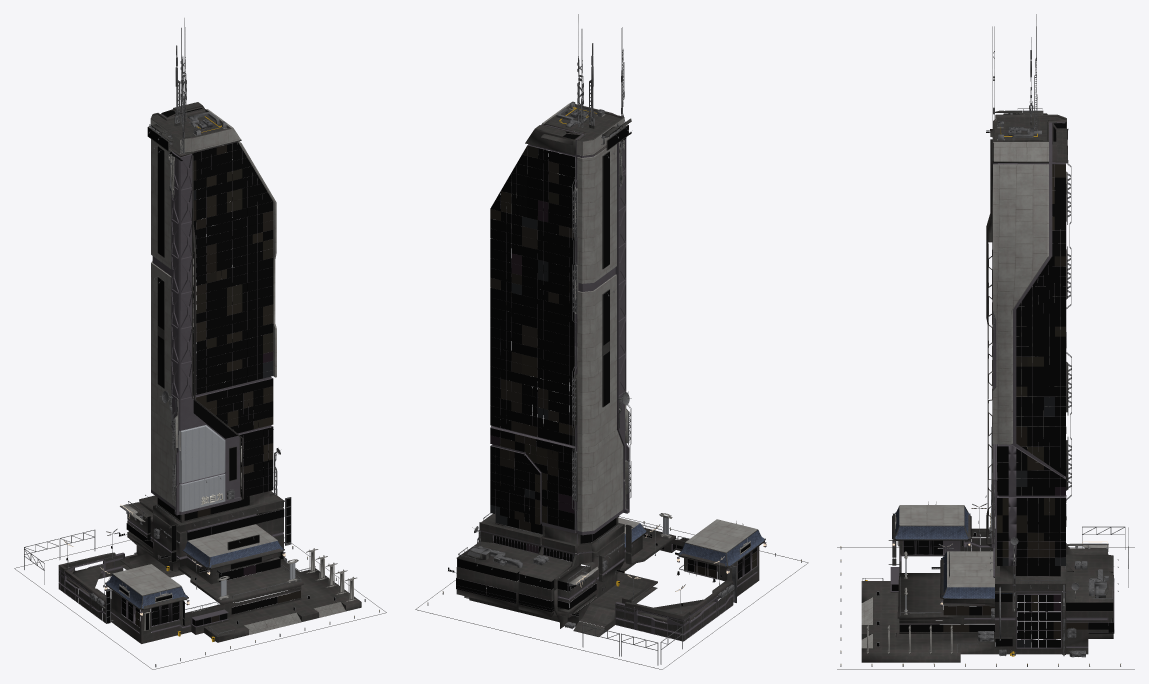
File: bldgLG.glb
3 views of the same model, side by side, from view 1: azimuth 30°, elevation 25°; view 2: azimuth 150°, elevation 25°; view 3: azimuth 270°, elevation 25° (orthographic). The views are drawn at different scales.
Visible parts, largest first — view 1: bldgLG; view 2: bldgLG; view 3: bldgLG.
Boxes of the visible parts, <box> form: bldgLG: <box>14,18,386,669</box>; bldgLG: <box>415,14,808,669</box>; bldgLG: <box>837,14,1134,669</box>.
Size of the model in its own units: 61.6 by 140 by 63.2.
12 materials, 9 textured.
